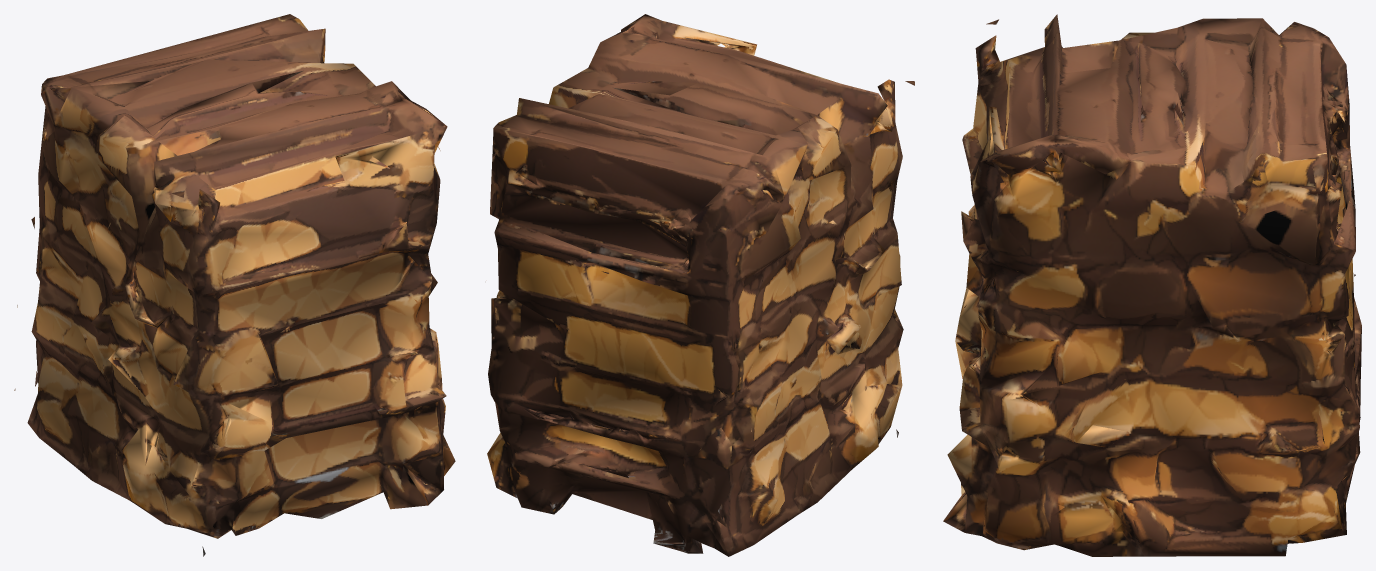
File: firewood.glb
3 renders of one model, left to right at view 1: azimuth 30°, elevation 25°; view 2: azimuth 150°, elevation 25°; view 3: azimuth 270°, elevation 25°, orthographic. The views are drawn at different scales.
Visible parts, largest first — view 1: low; view 2: low; view 3: low.
Part boxes in pixels (bbox=[...]): low: bbox=[14, 14, 455, 556]; low: bbox=[487, 14, 914, 556]; low: bbox=[943, 14, 1361, 556].
Bounding box in the file's own units: 0.724 × 0.9305 × 0.8257.
Materials: 1 (1 with a texture image).
